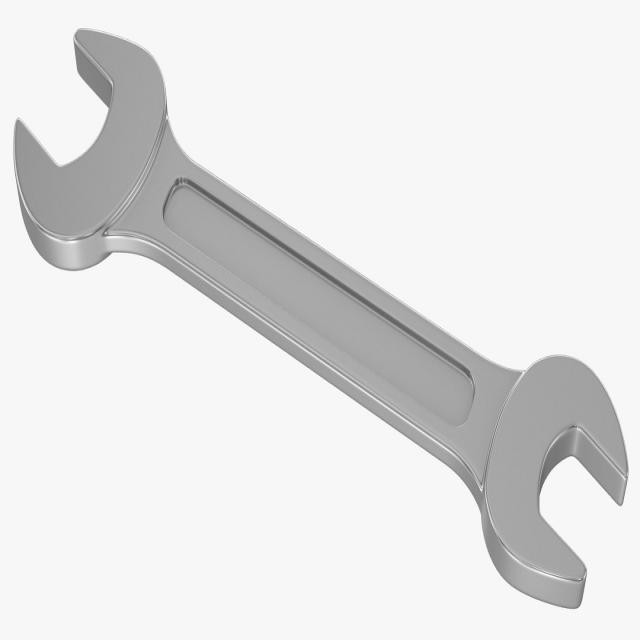wrench: (8, 22, 630, 614)
